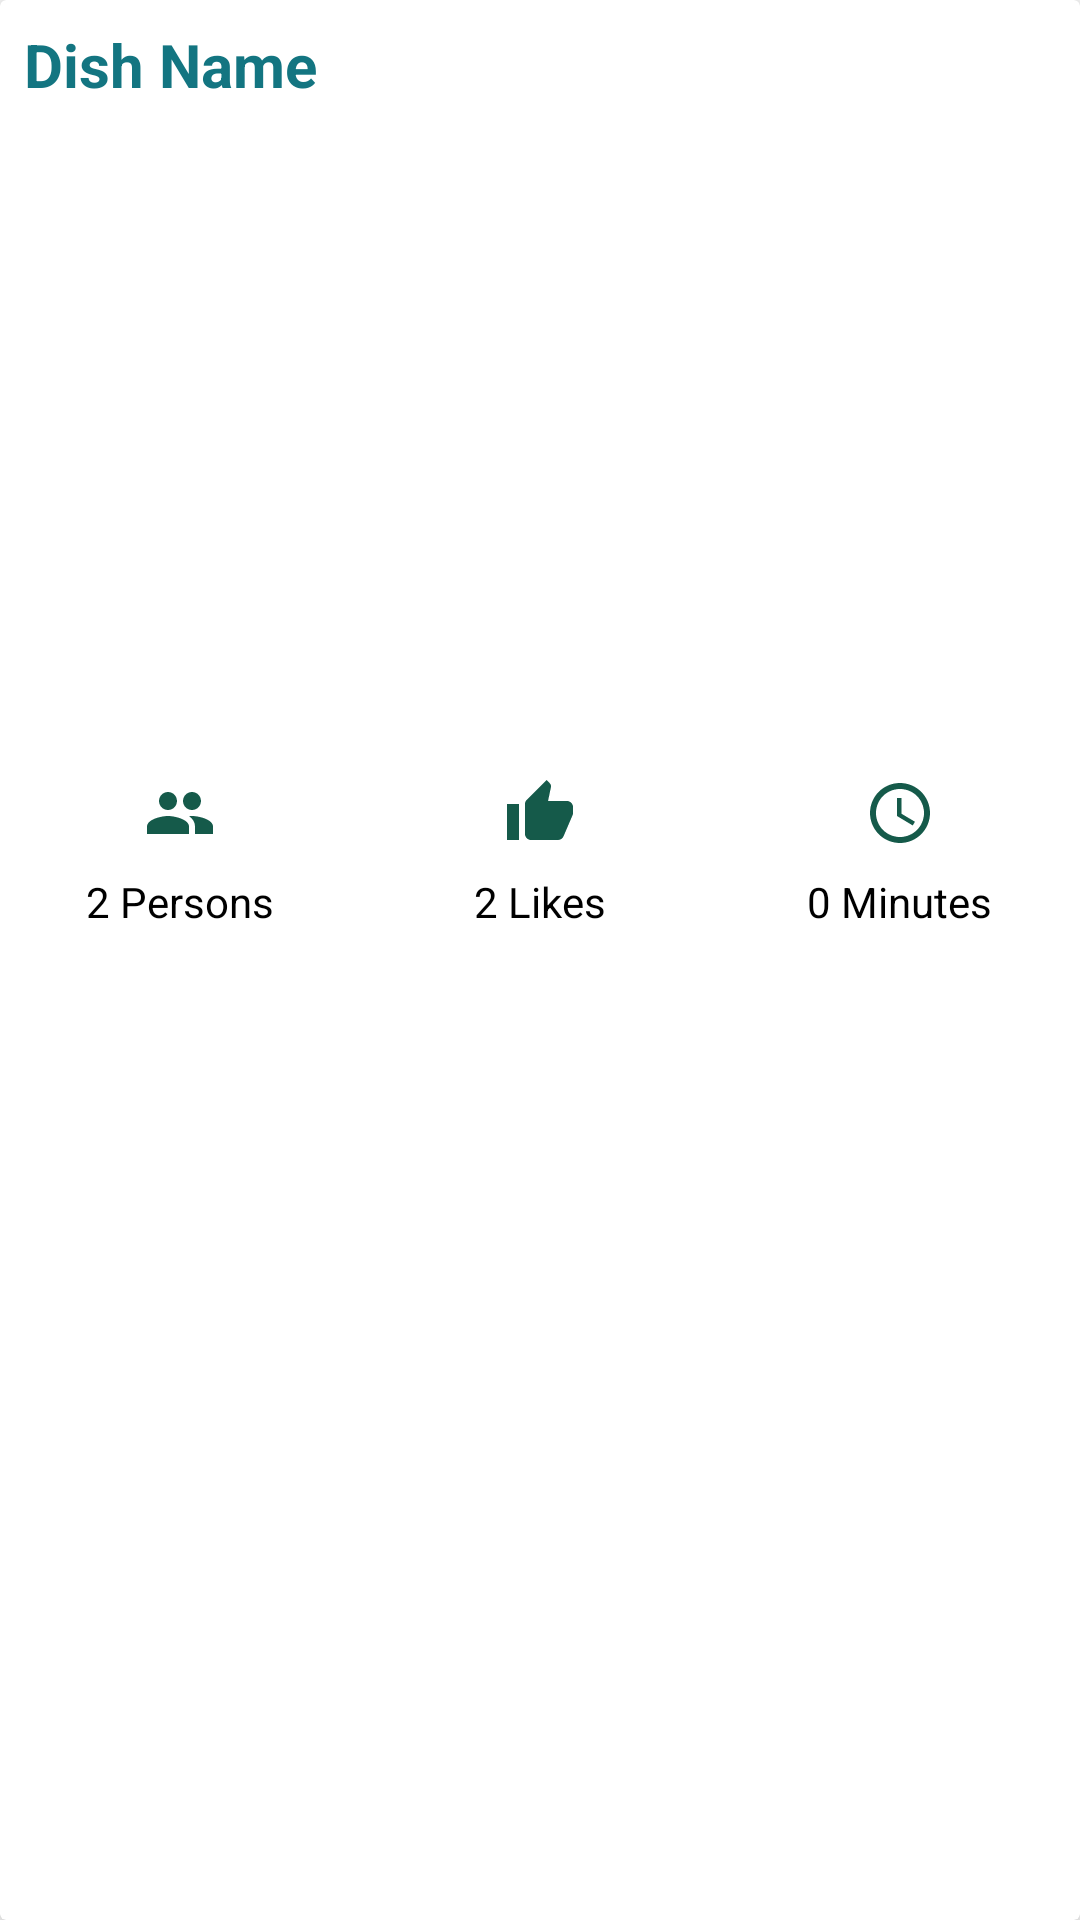

Point at icon controls on the screen. Image size 1080x1920, points as [x,y].
servings: [180,813]
time: [900,813]
